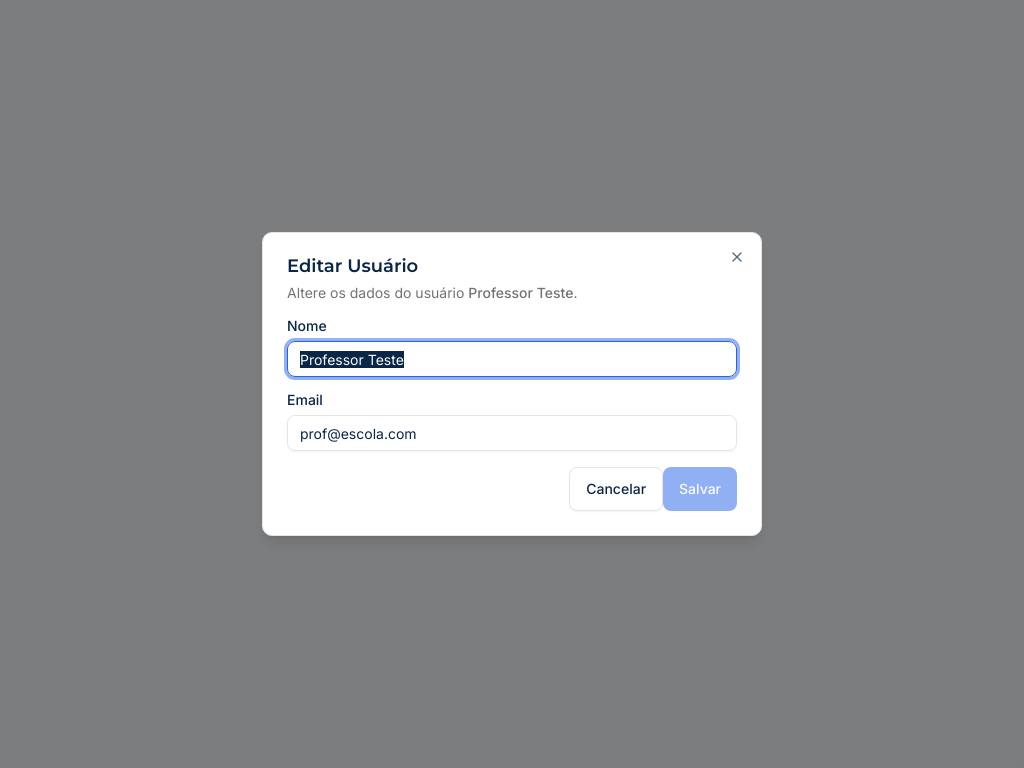
EditUsuarioDialog › should show inline error on email field when server returns 409
Clear the field labelled "Email" at (512, 433), box [287,415,737,451]
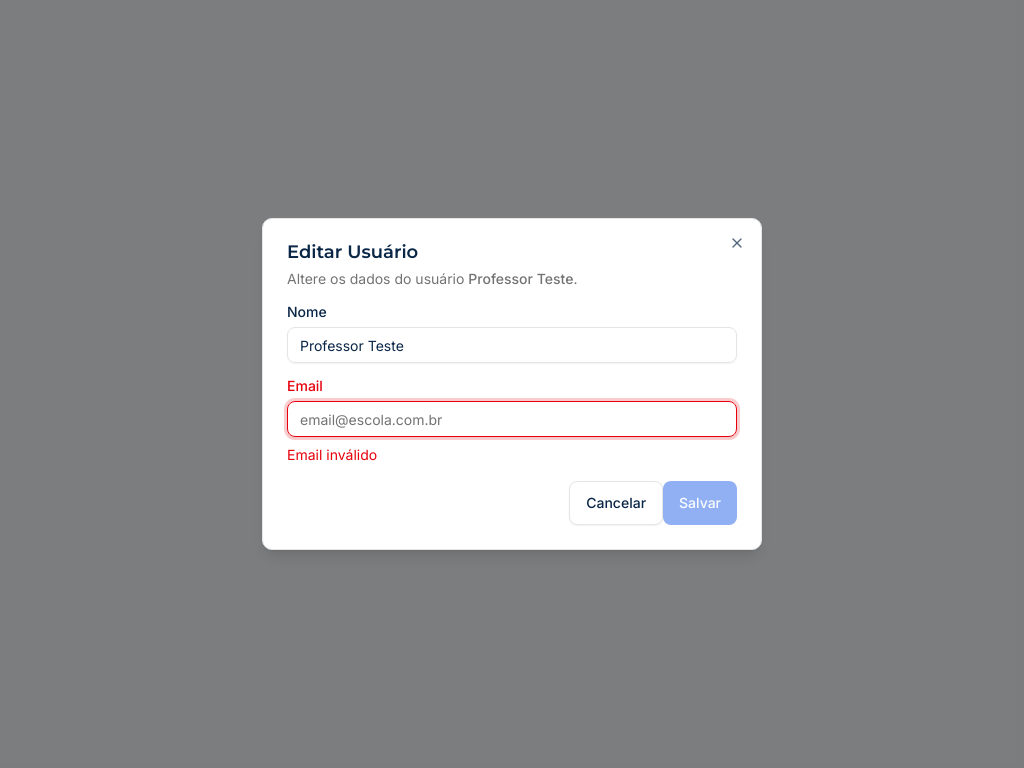
Type "outro@escola.com" into the field labelled "Email" at (512, 419), box [287,401,737,437]
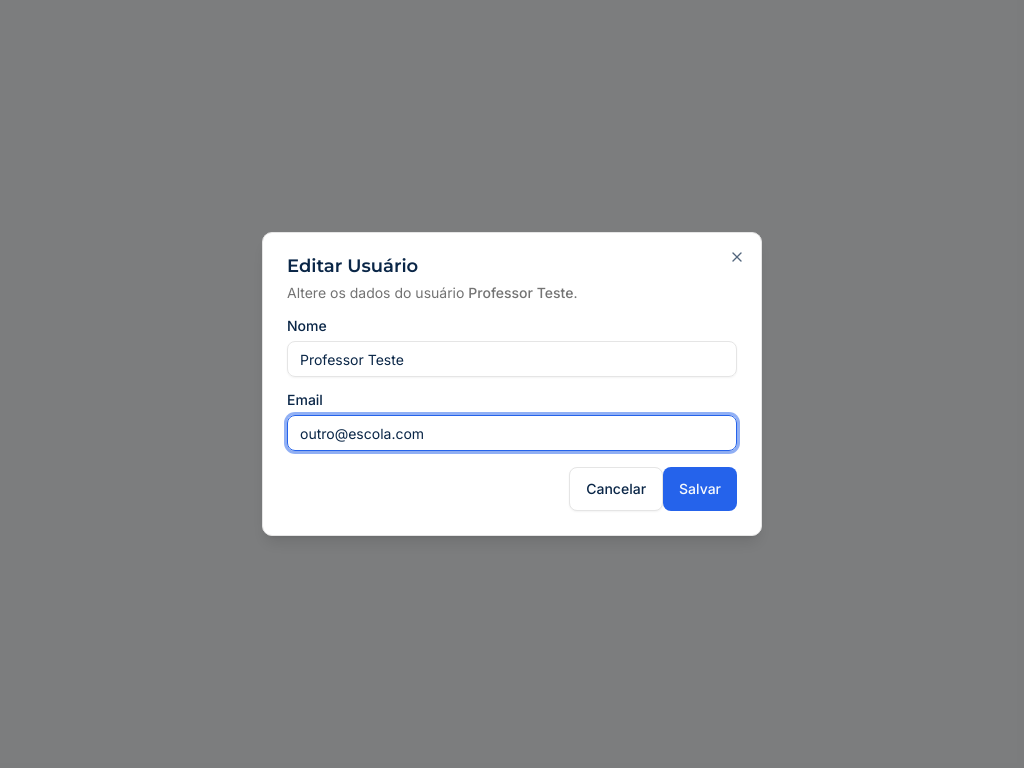
Result: the button "Salvar" is enabled
Click the button "Salvar" at (700, 489), box [663,467,737,511]
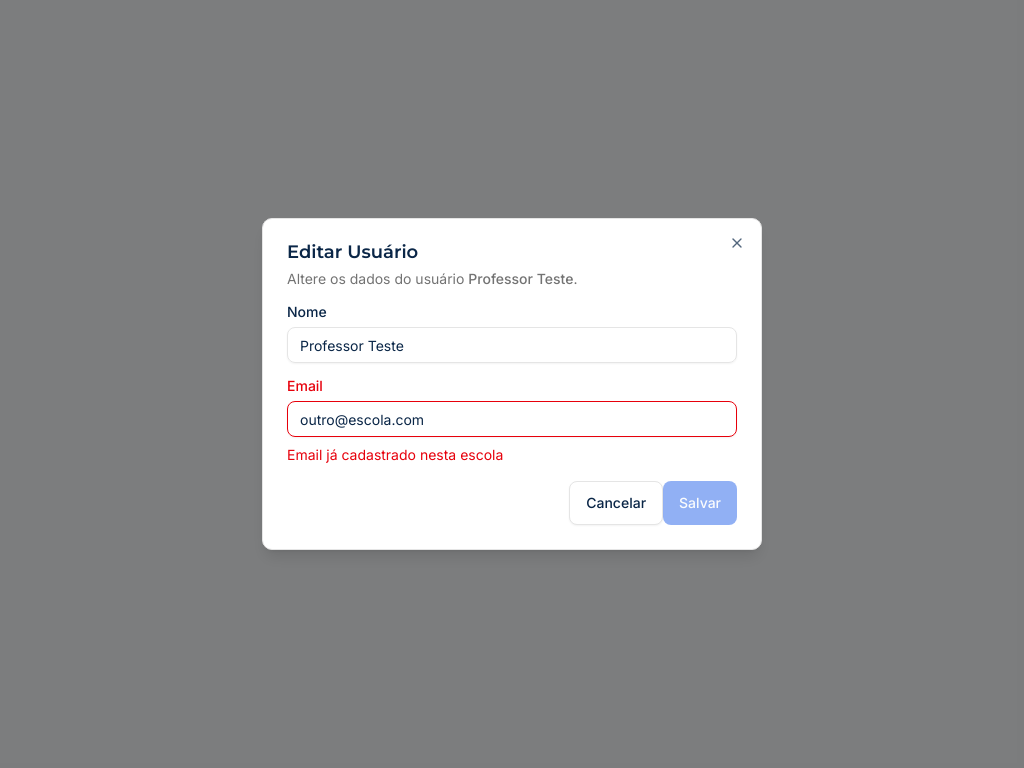
Result: the text "Email já cadastrado nesta escola" is shown at [287,446,503,463]
